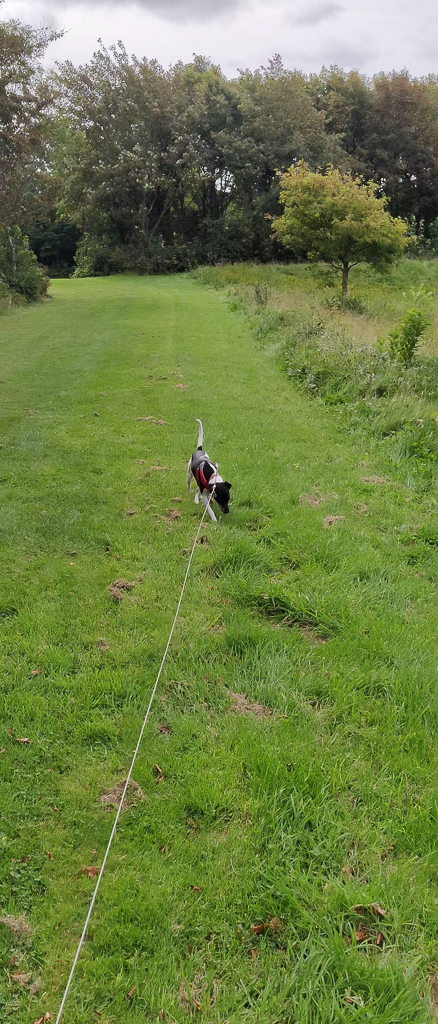Dog: (178, 414, 241, 526)
